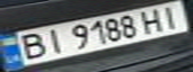1: (87, 18, 109, 46)
8: (118, 12, 142, 39), (103, 16, 124, 43)
9: (66, 21, 90, 50)
B: (9, 29, 51, 61)
H: (136, 7, 169, 34)
I: (36, 26, 69, 55), (154, 3, 187, 29)
